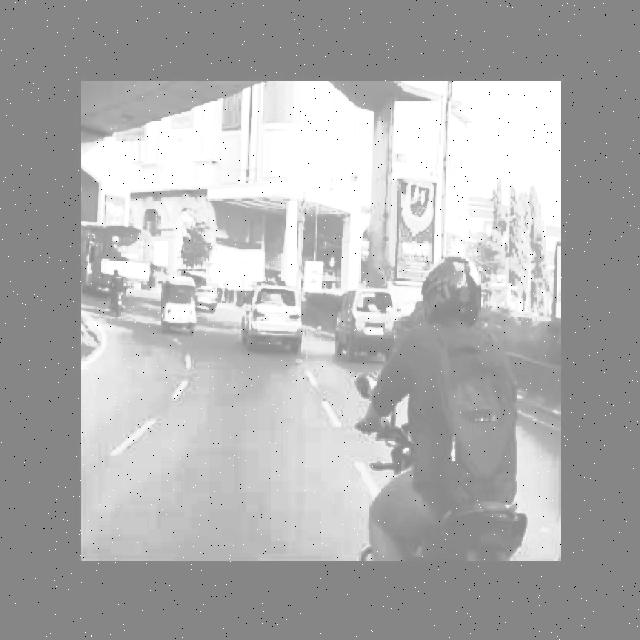Car: (238, 272, 312, 363), (330, 275, 394, 374)
